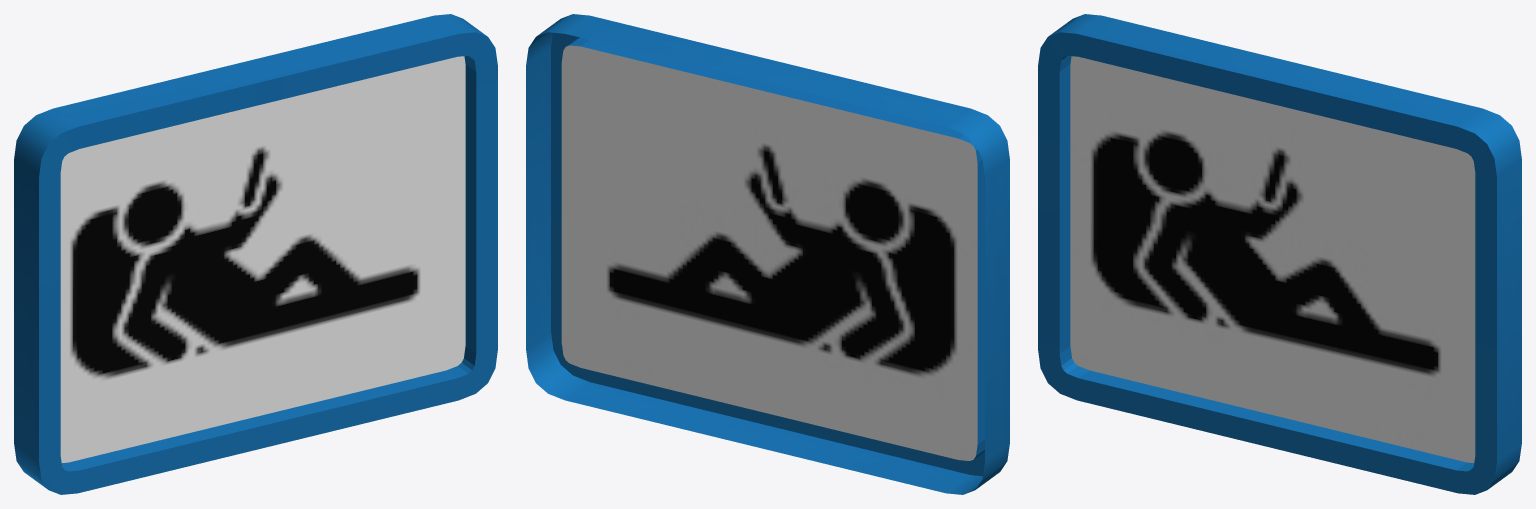
File: restroom.FBX
3 renders of one model, left to right at view 1: azimuth 30°, elevation 25°; view 2: azimuth 150°, elevation 25°; view 3: azimuth 330°, elevation 25°, orthographic.
Visible parts, largest first — view 1: restroom; view 2: restroom; view 3: restroom.
Boxes of the visible parts, <box> form: restroom: <box>14,14,497,494</box>; restroom: <box>526,14,1009,494</box>; restroom: <box>1038,14,1521,494</box>.
Bounding box in the file's own units: 39.3 × 30 × 3.7.
Materials: 1 (1 with a texture image).
